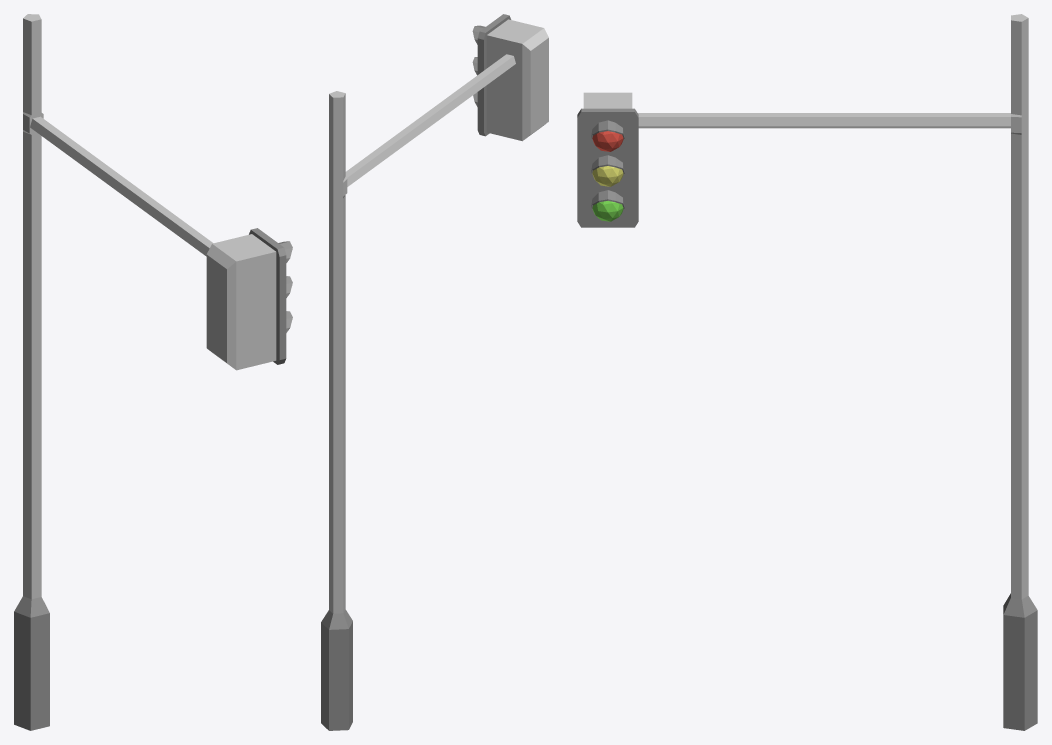
File: TrafficLight_2.glb
The picture shows the model from 3 angles, left to right: view 1: azimuth 30°, elevation 25°; view 2: azimuth 150°, elevation 25°; view 3: azimuth 270°, elevation 25°; orthographic projection. The views are drawn at different scales.
Visible parts, largest first — view 1: TrafficLight_2.obj; view 2: TrafficLight_2.obj; view 3: TrafficLight_2.obj.
Boxes of the visible parts, x1,y1,x2,y2 form: TrafficLight_2.obj: (14, 14, 292, 730); TrafficLight_2.obj: (321, 14, 548, 730); TrafficLight_2.obj: (577, 14, 1037, 730).
Bounding box in the file's own units: 0.123 × 1.13 × 0.6708.
